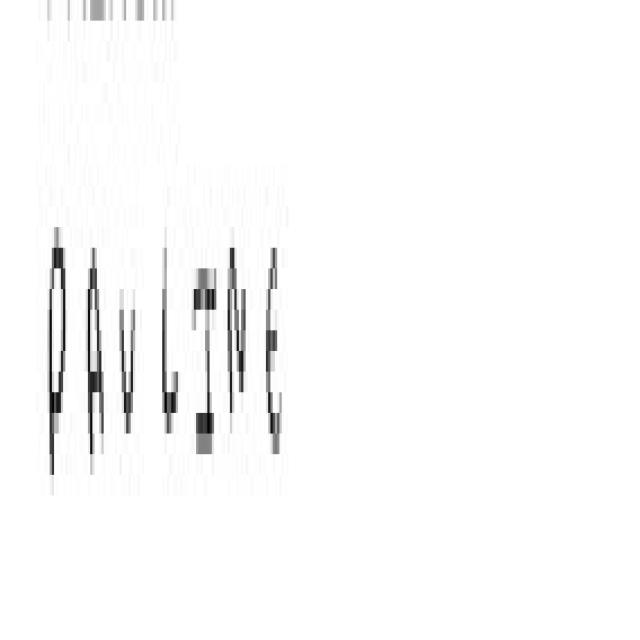A: (82, 185, 112, 605)
E: (264, 217, 288, 610)
I: (194, 169, 221, 605)
L: (158, 185, 186, 600)
N: (227, 201, 256, 584)
P: (42, 153, 75, 568)
V: (118, 169, 146, 589)
